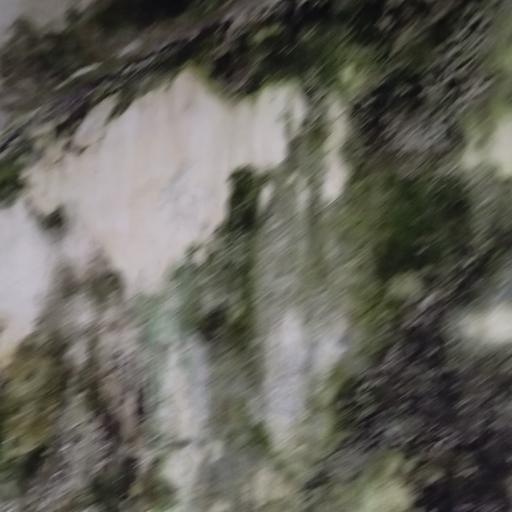algae: (5, 5, 512, 512)
